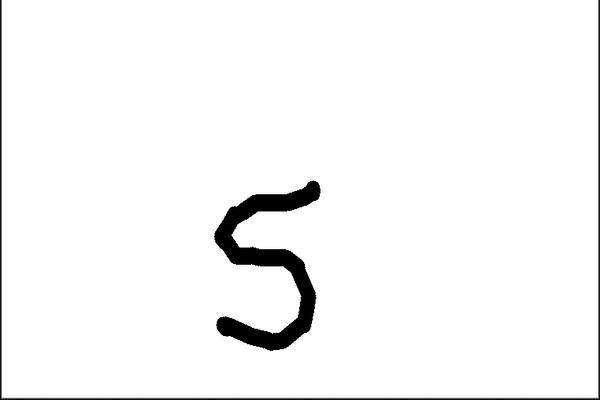S: (203, 173, 339, 366)
